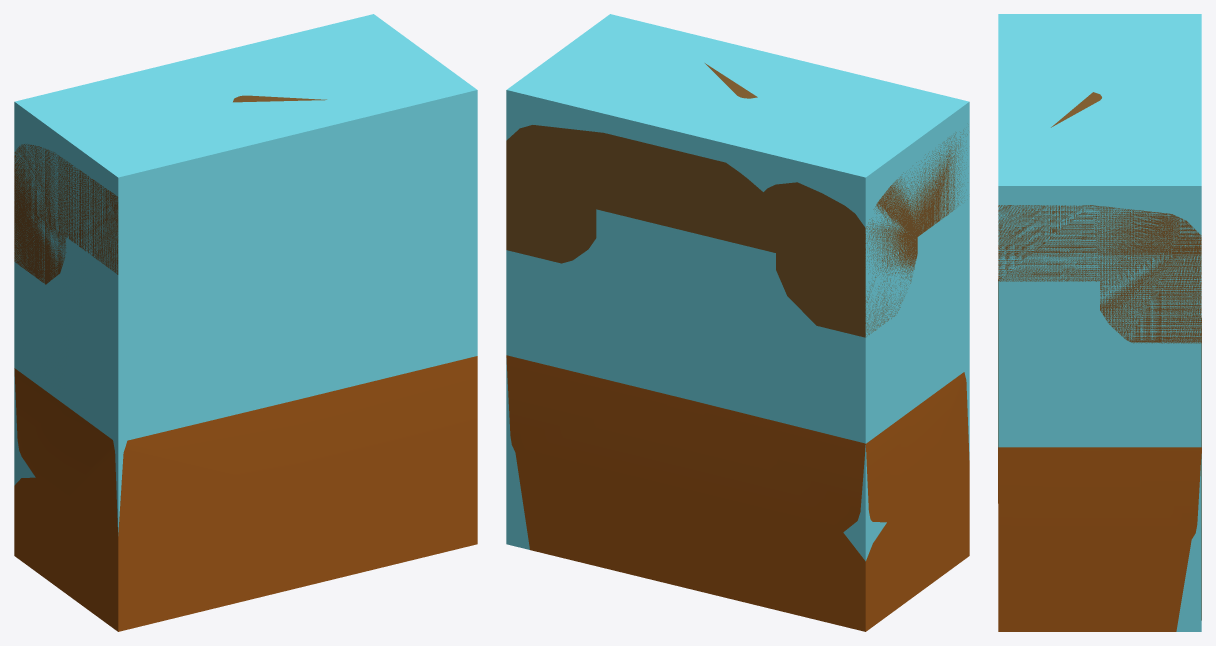
Rendered from PBOX2_Mud_04.FBX.
3 renders of one model, left to right at view 1: azimuth 30°, elevation 25°; view 2: azimuth 150°, elevation 25°; view 3: azimuth 270°, elevation 25°, orthographic.
Parts seen in each view (by area): view 1: PBOX2_Mud_04, PBOX1_SUB_TAB_MUD_010, PBOX2_SUB_Mud_04; view 2: PBOX2_Mud_04, PBOX1_SUB_TAB_MUD_010, PBOX2_SUB_Mud_04; view 3: PBOX2_Mud_04, PBOX1_SUB_TAB_MUD_010, PBOX2_SUB_Mud_04.
Boxes of the visible parts, x1,y1,x2,y2 form: PBOX2_Mud_04: [14, 14, 477, 535]; PBOX1_SUB_TAB_MUD_010: [14, 356, 477, 631]; PBOX2_SUB_Mud_04: [14, 95, 326, 284]; PBOX2_Mud_04: [506, 14, 969, 561]; PBOX1_SUB_TAB_MUD_010: [506, 355, 969, 631]; PBOX2_SUB_Mud_04: [506, 63, 967, 337]; PBOX2_Mud_04: [998, 14, 1201, 631]; PBOX1_SUB_TAB_MUD_010: [998, 279, 1201, 631]; PBOX2_SUB_Mud_04: [998, 92, 1201, 343].
Size of the model in its own units: 12 by 14.51 by 6.
